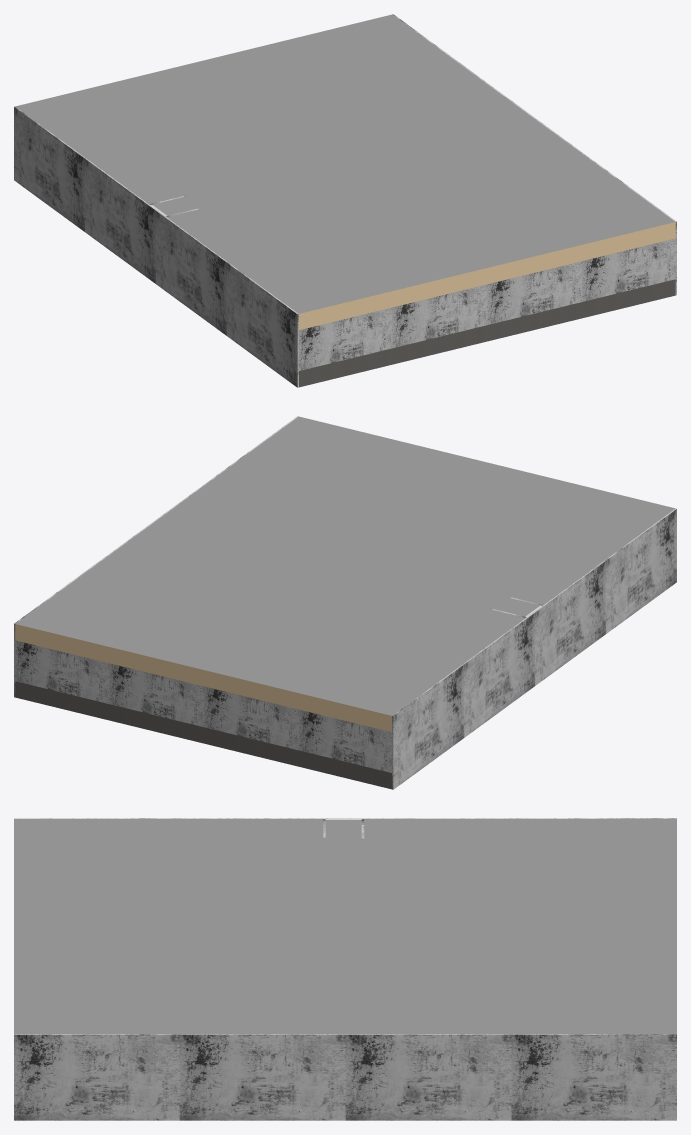
The model's file is lantai 6.FBX.
3 renders of one model, top to bottom at view 1: azimuth 30°, elevation 25°; view 2: azimuth 150°, elevation 25°; view 3: azimuth 270°, elevation 25°, orthographic. The views are drawn at different scales.
Visible parts, largest first — view 1: Box2304, Box019, Box2303, Box2107, Box105; view 2: Box2304, Box019, Box2803, Box2107, Box105; view 3: Box2304, Box105, Box019.
Part boxes in pixels (x1=…): Box2304: x1=15, y1=14, x2=675, y2=329; Box019: x1=14, y1=106, x2=298, y2=387; Box2303: x1=299, y1=238, x2=675, y2=370; Box2107: x1=299, y1=279, x2=675, y2=387; Box105: x1=392, y1=14, x2=676, y2=295; Box2304: x1=15, y1=416, x2=675, y2=731; Box019: x1=392, y1=508, x2=676, y2=789; Box2803: x1=15, y1=640, x2=391, y2=772; Box2107: x1=15, y1=681, x2=391, y2=789; Box105: x1=14, y1=416, x2=298, y2=697; Box2304: x1=14, y1=819, x2=676, y2=1033; Box105: x1=14, y1=1034, x2=676, y2=1120; Box019: x1=14, y1=818, x2=676, y2=818.
Size of the model in its own units: 1148 by 213 by 1485.
